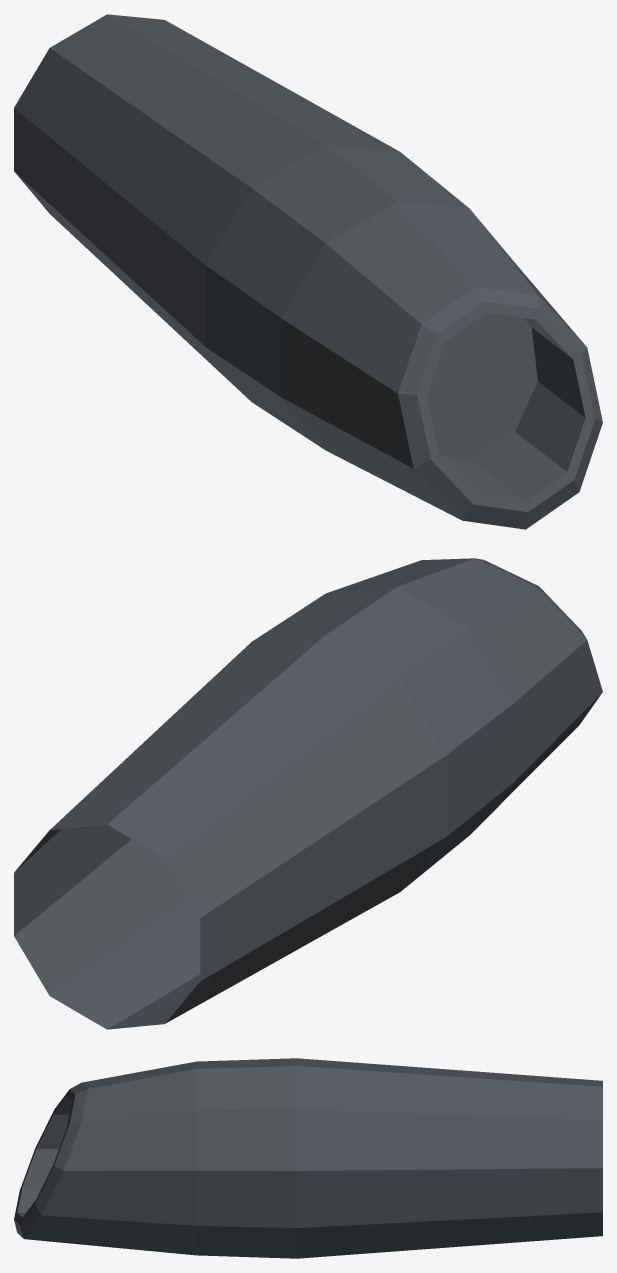
The model's file is Fighter_08_Light_Yellow.fbx.
3 renders of one model, top to bottom at view 1: azimuth 30°, elevation 25°; view 2: azimuth 150°, elevation 25°; view 3: azimuth 270°, elevation 25°, orthographic. The views are drawn at different scales.
Visible parts, largest first — view 1: Fighter_08_Light_Yellow; view 2: Fighter_08_Light_Yellow; view 3: Fighter_08_Light_Yellow.
Part boxes in pixels (x1,y1,x2,y2): Fighter_08_Light_Yellow: (14, 14, 602, 529); Fighter_08_Light_Yellow: (14, 558, 602, 1029); Fighter_08_Light_Yellow: (14, 1058, 602, 1258).
Size of the model in its own units: 67.5 by 70.97 by 205.
Materials: 2 (2 with a texture image).
